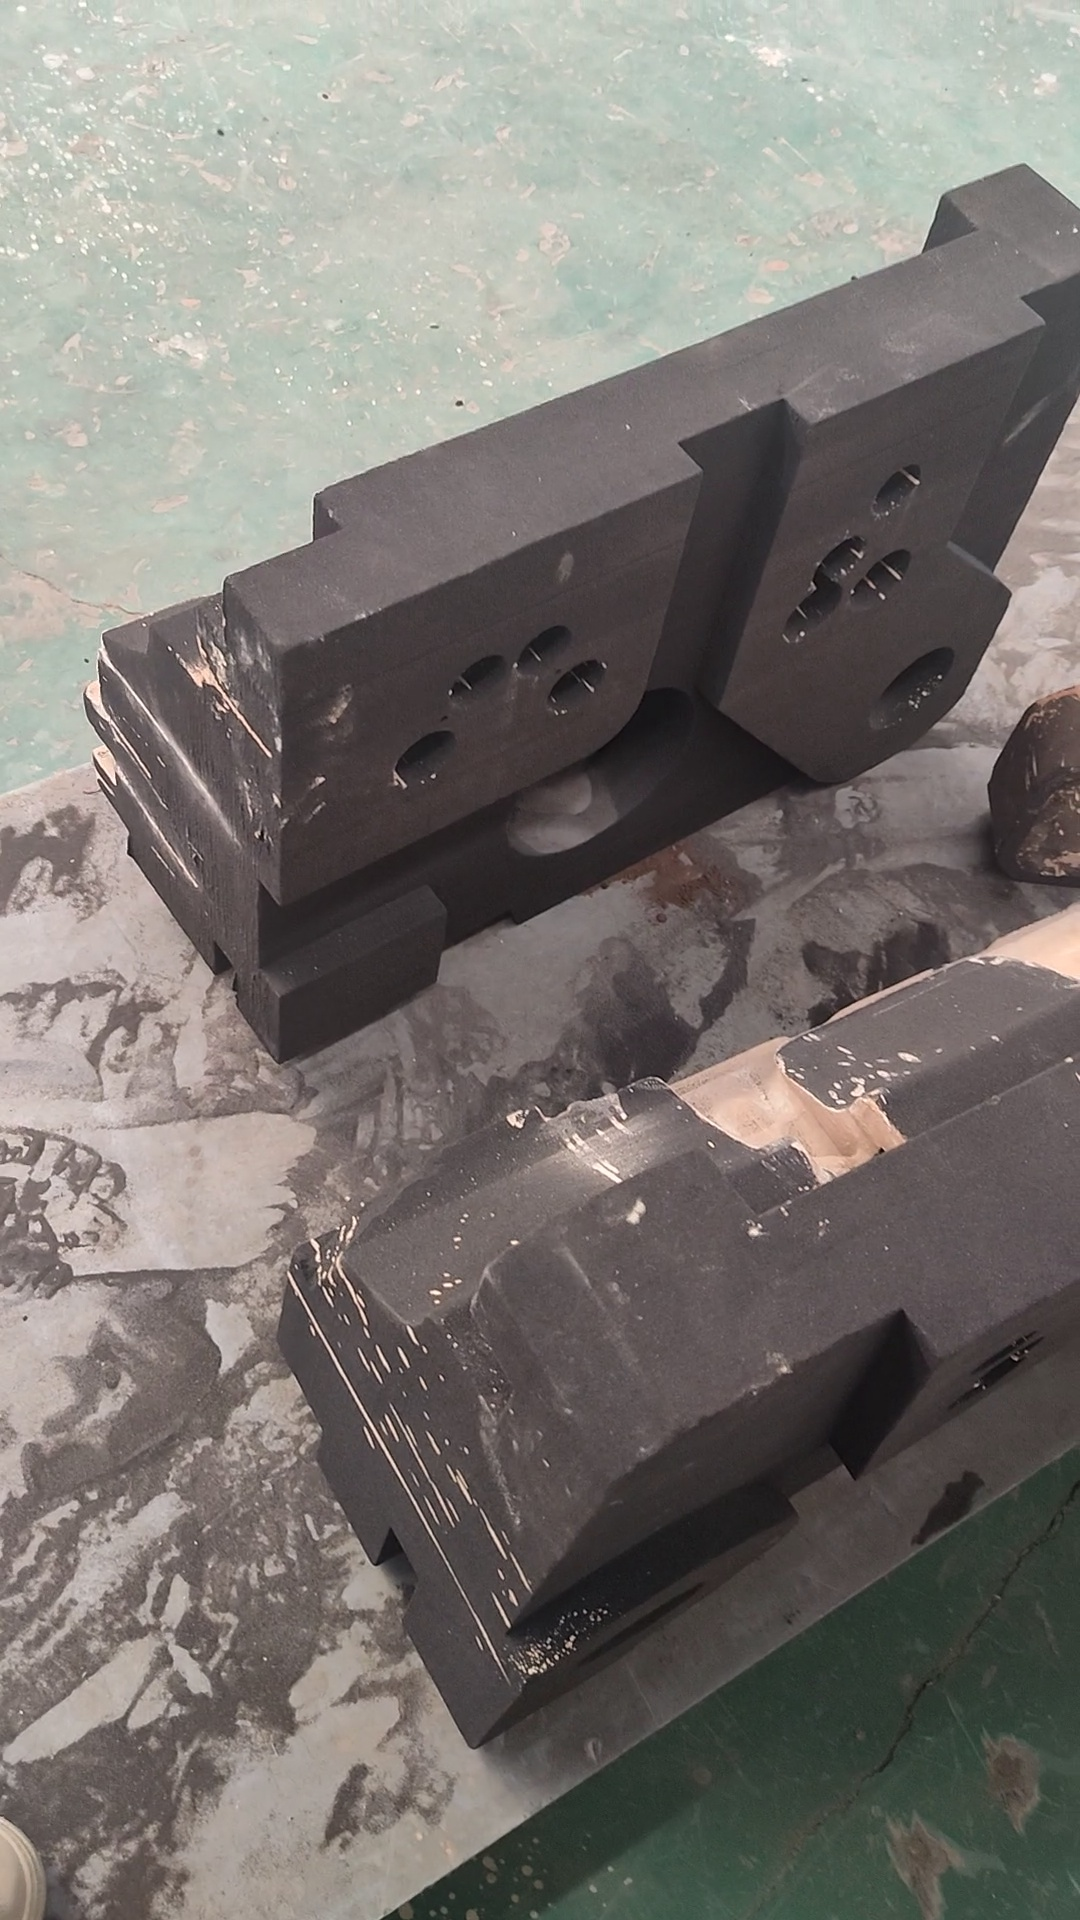pouring hole: (571, 1577, 704, 1672), (866, 646, 957, 731)
